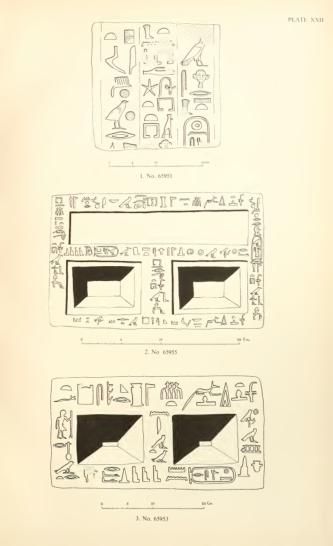circle: (182, 114, 214, 151), (187, 465, 238, 486), (92, 244, 120, 258)
